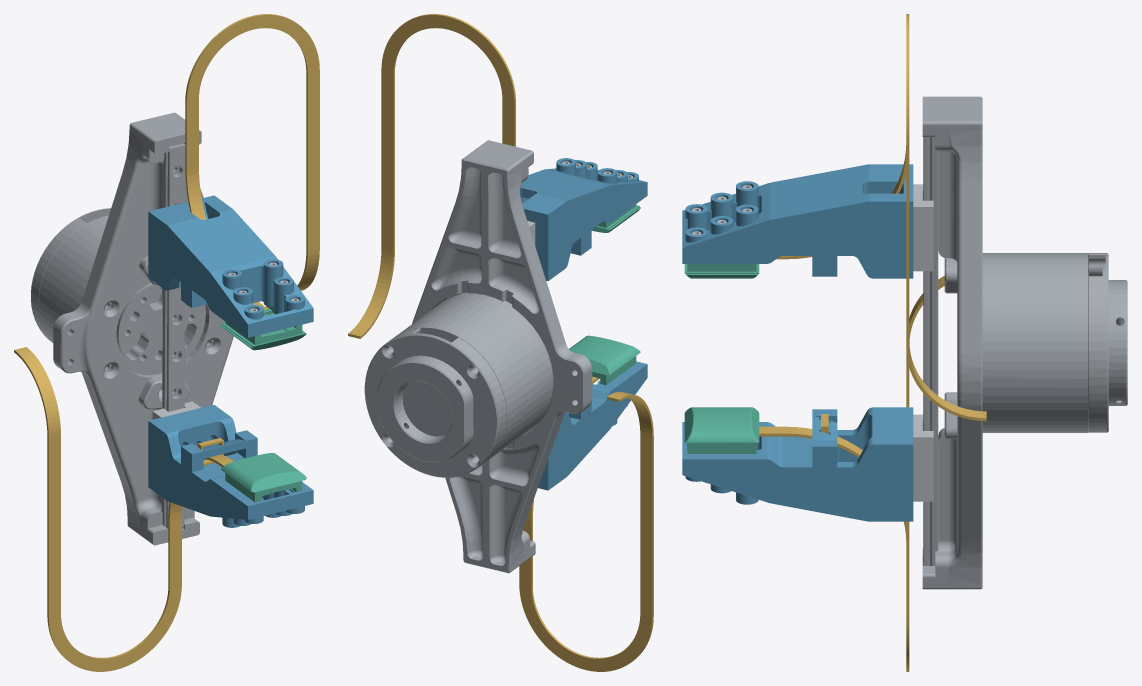
File: assembly_open50.glb
3 views of the same model, side by side, from view 1: azimuth 30°, elevation 25°; view 2: azimuth 150°, elevation 25°; view 3: azimuth 270°, elevation 25° (orthographic). The views are drawn at different scales.
Parts seen in each view (by area): view 1: original_actuator_and_transmission, replacement_finger_2, replacement_finger_1, service_loop_envelope_1, service_loop_envelope_2, M2324_1, M2324_2, moving_harness_envelope_2; view 2: original_actuator_and_transmission, replacement_finger_2, service_loop_envelope_2, service_loop_envelope_1, replacement_finger_1, M2324_1; view 3: original_actuator_and_transmission, replacement_finger_2, replacement_finger_1, M2324_1, service_loop_envelope_2, retained_carrier_2, retained_carrier_1, M2324_2, service_loop_envelope_1, moving_harness_envelope_1.
Part boxes in pixels (left/top/right/bottom): original_actuator_and_transmission: left=31, top=112, right=233, bottom=545; replacement_finger_2: left=148, top=195, right=313, bottom=337; replacement_finger_1: left=148, top=405, right=313, bottom=527; service_loop_envelope_1: left=14, top=347, right=181, bottom=671; service_loop_envelope_2: left=185, top=14, right=319, bottom=290; M2324_1: left=221, top=453, right=306, bottom=502; M2324_2: left=220, top=306, right=306, bottom=350; moving_harness_envelope_2: left=185, top=166, right=265, bottom=307; original_actuator_and_transmission: left=364, top=140, right=592, bottom=573; replacement_finger_2: left=520, top=158, right=647, bottom=280; service_loop_envelope_2: left=348, top=14, right=515, bottom=338; service_loop_envelope_1: left=519, top=391, right=653, bottom=671; replacement_finger_1: left=538, top=361, right=647, bottom=490; M2324_1: left=569, top=335, right=640, bottom=384; original_actuator_and_transmission: left=922, top=96, right=1127, bottom=589; replacement_finger_2: left=682, top=164, right=913, bottom=278; replacement_finger_1: left=682, top=407, right=913, bottom=521; M2324_1: left=684, top=407, right=759, bottom=453; service_loop_envelope_2: left=906, top=14, right=986, bottom=421; retained_carrier_2: left=913, top=184, right=933, bottom=271; retained_carrier_1: left=913, top=414, right=933, bottom=501; M2324_2: left=684, top=264, right=759, bottom=278; service_loop_envelope_1: left=906, top=276, right=944, bottom=671; moving_harness_envelope_1: left=759, top=426, right=909, bottom=543.
Bounding box in the file's own units: 0.1152 × 0.2516 × 0.1412.
